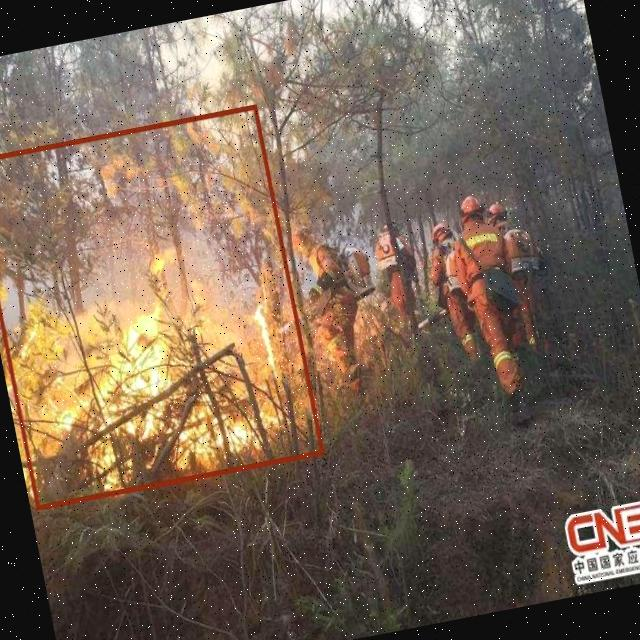fire: (0, 104, 324, 509)
